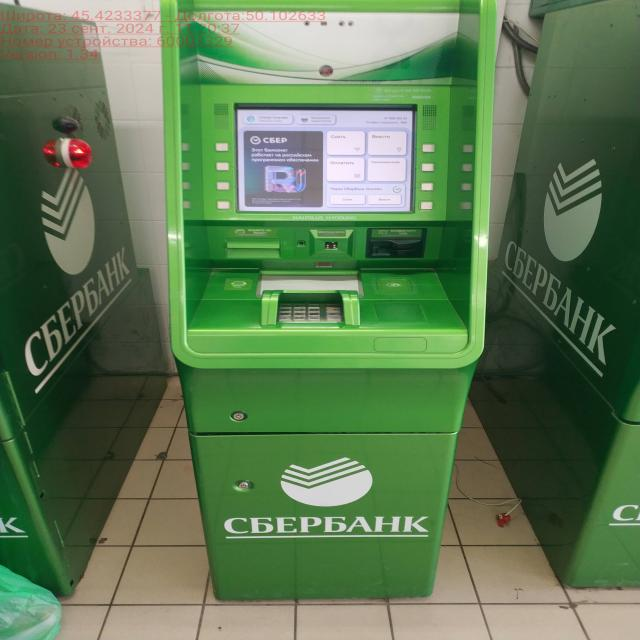bank: (158, 0, 498, 605), (0, 0, 160, 607), (478, 0, 640, 590)
